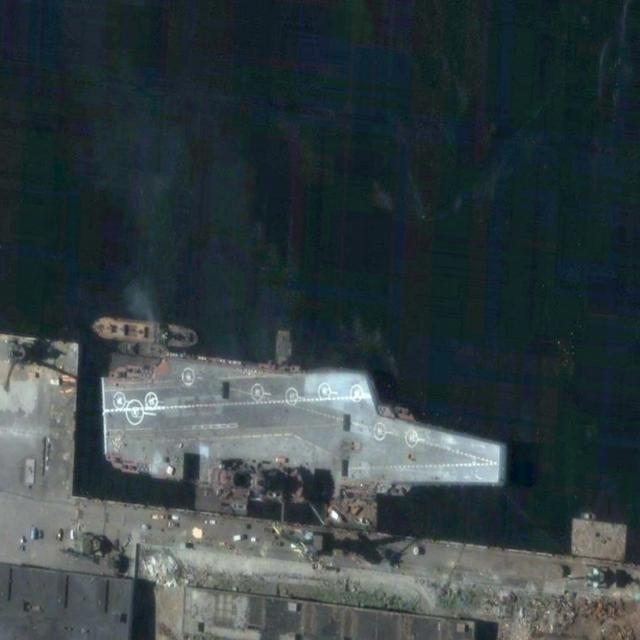Aircraft Carrier: (98, 350, 506, 505)
Other Ship: (93, 316, 197, 347)
